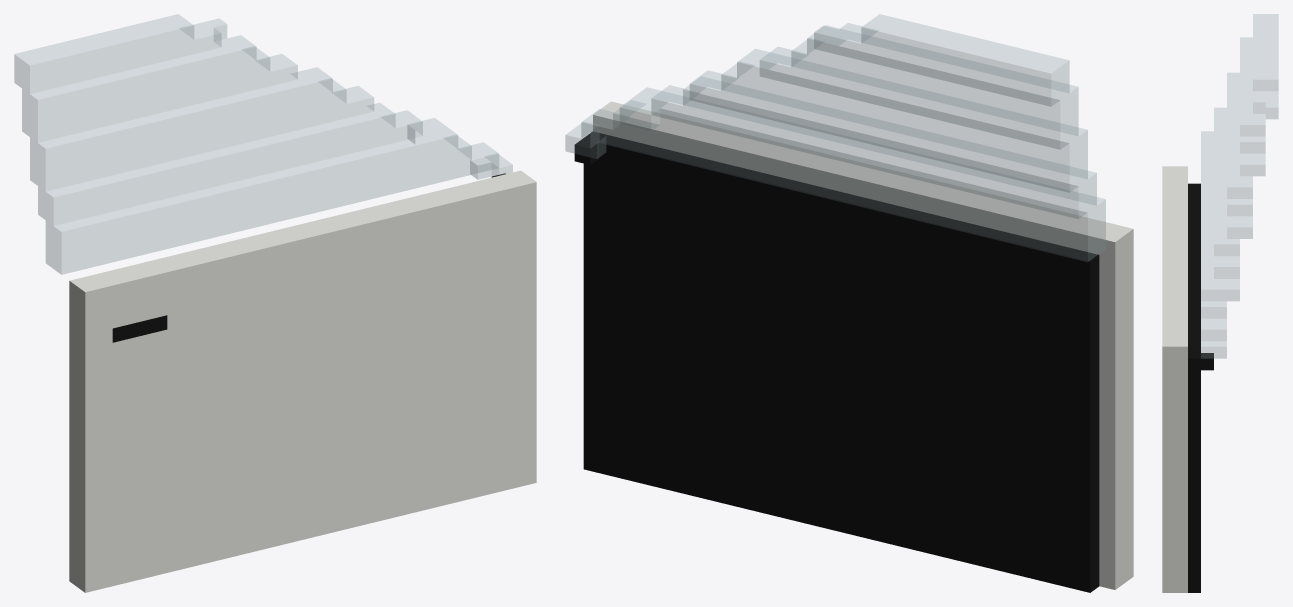
Rendered from police_car_front_door.glb.
3 renders of one model, left to right at view 1: azimuth 30°, elevation 25°; view 2: azimuth 150°, elevation 25°; view 3: azimuth 270°, elevation 25°, orthographic. The views are drawn at different scales.
Parts seen in each view (by area): view 1: body:compound; view 2: body:compound; view 3: body:compound.
Boxes of the visible parts, bbox=[...] form: body:compound: bbox=[14, 14, 536, 592]; body:compound: bbox=[565, 14, 1133, 592]; body:compound: bbox=[1162, 14, 1278, 592].
Bounding box in the file's own units: 1.03 × 1.06 × 0.2812.
